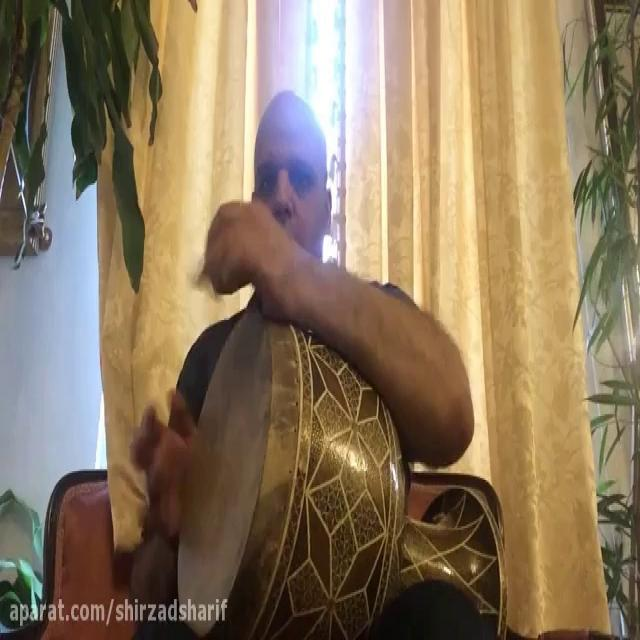Tombak: (169, 318, 509, 636)
